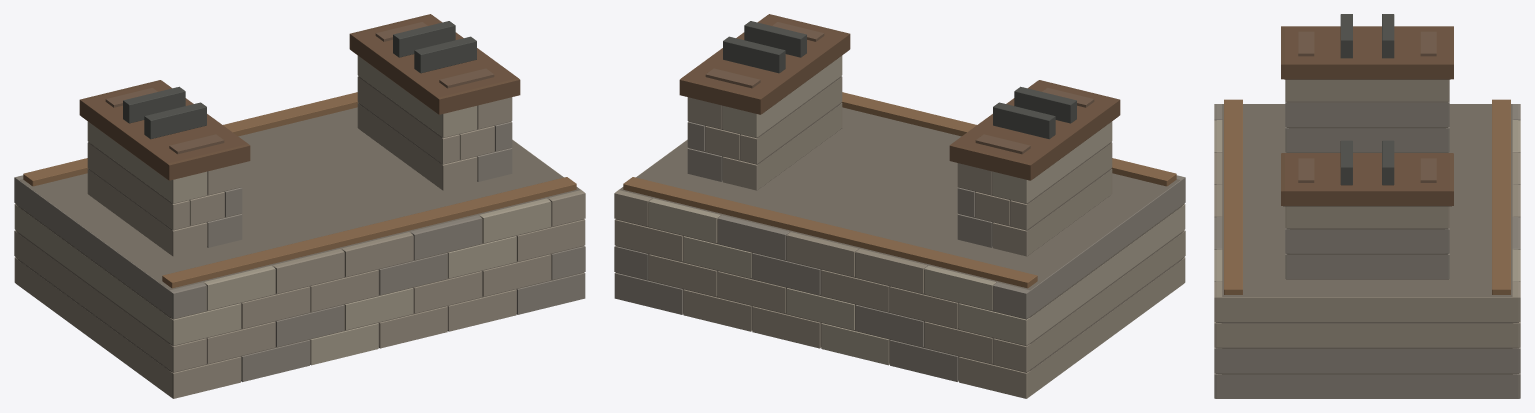
The model's file is WheelSeat.glb.
The picture shows the model from 3 angles, left to right: view 1: azimuth 30°, elevation 25°; view 2: azimuth 150°, elevation 25°; view 3: azimuth 270°, elevation 25°; orthographic projection. The views are drawn at different scales.
Parts seen in each view (by area): view 1: WheelBase-col, BearingPiers-col, AxleSeats-col; view 2: WheelBase-col, BearingPiers-col, AxleSeats-col; view 3: WheelBase-col, BearingPiers-col, AxleSeats-col.
Part boxes in pixels (x1,y1,x2,y2): WheelBase-col: (14, 92, 585, 398); BearingPiers-col: (79, 14, 520, 256); AxleSeats-col: (105, 21, 494, 154); WheelBase-col: (614, 92, 1185, 398); BearingPiers-col: (679, 14, 1120, 256); AxleSeats-col: (705, 21, 1094, 154); WheelBase-col: (1214, 99, 1520, 398); BearingPiers-col: (1281, 26, 1453, 279); AxleSeats-col: (1298, 14, 1436, 185).
Size of the model in its own units: 5.99 by 3.05 by 4.
